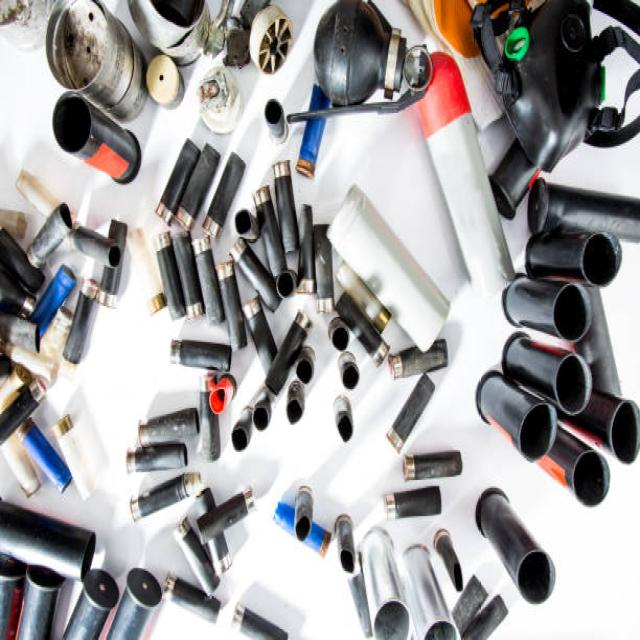grenade: (288, 1, 437, 127)
